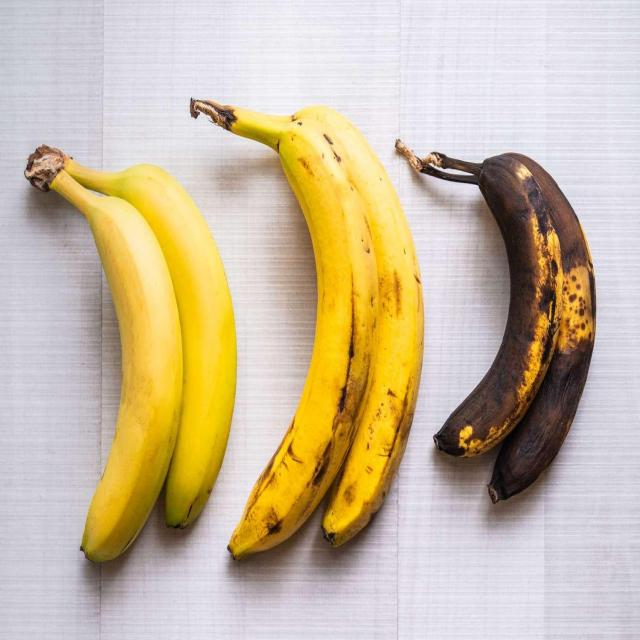banana: (184, 81, 424, 566), (21, 130, 240, 568), (395, 132, 601, 510)
